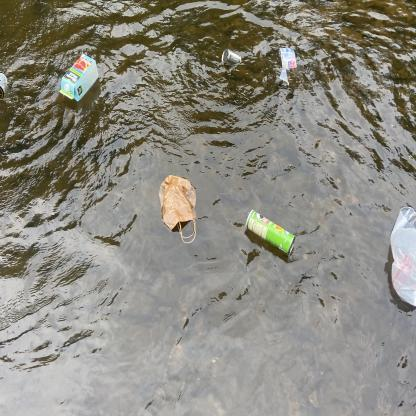trash: (387, 202, 416, 312), (156, 172, 199, 245), (244, 208, 298, 260), (58, 50, 101, 106), (278, 45, 299, 86), (219, 48, 244, 68), (0, 70, 9, 102)
